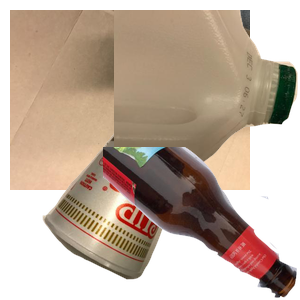cardboard: (10, 10, 250, 190)
glass: (103, 147, 300, 300)
plastic: (114, 10, 300, 179)
trash: (40, 121, 221, 300)
